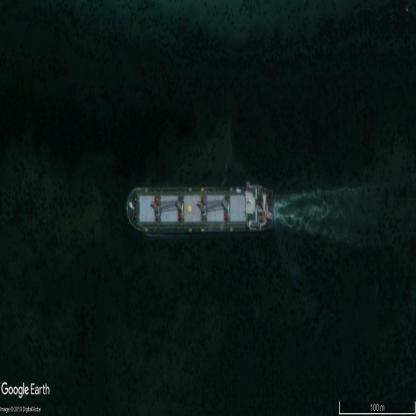ship: (126, 182, 272, 233)
